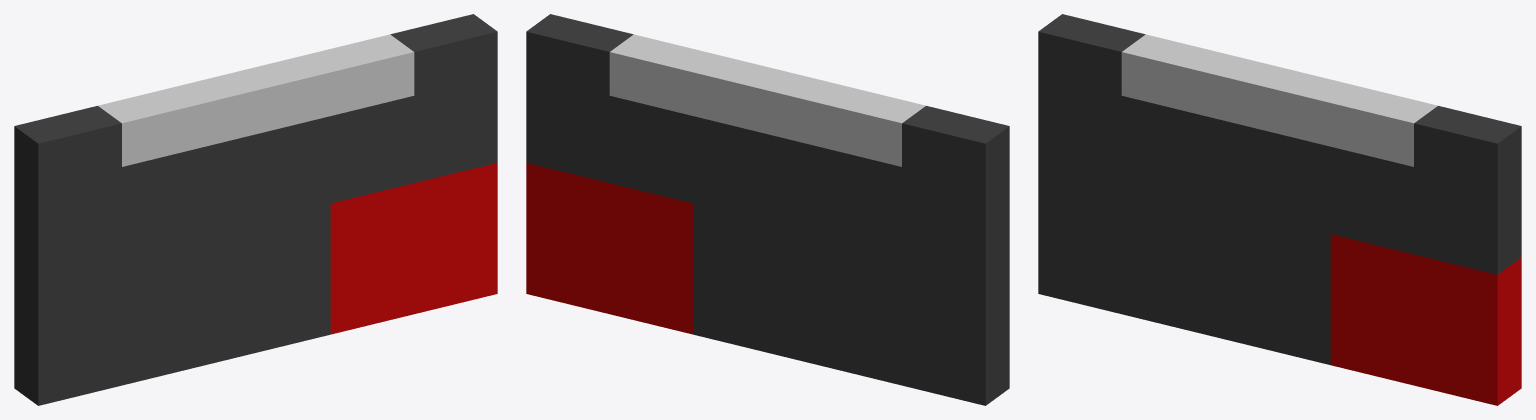
3 renders of one model, left to right at view 1: azimuth 30°, elevation 25°; view 2: azimuth 150°, elevation 25°; view 3: azimuth 330°, elevation 25°, orthographic.
Bounding box in the file's own units: 0.55 × 0.3 × 0.05.
